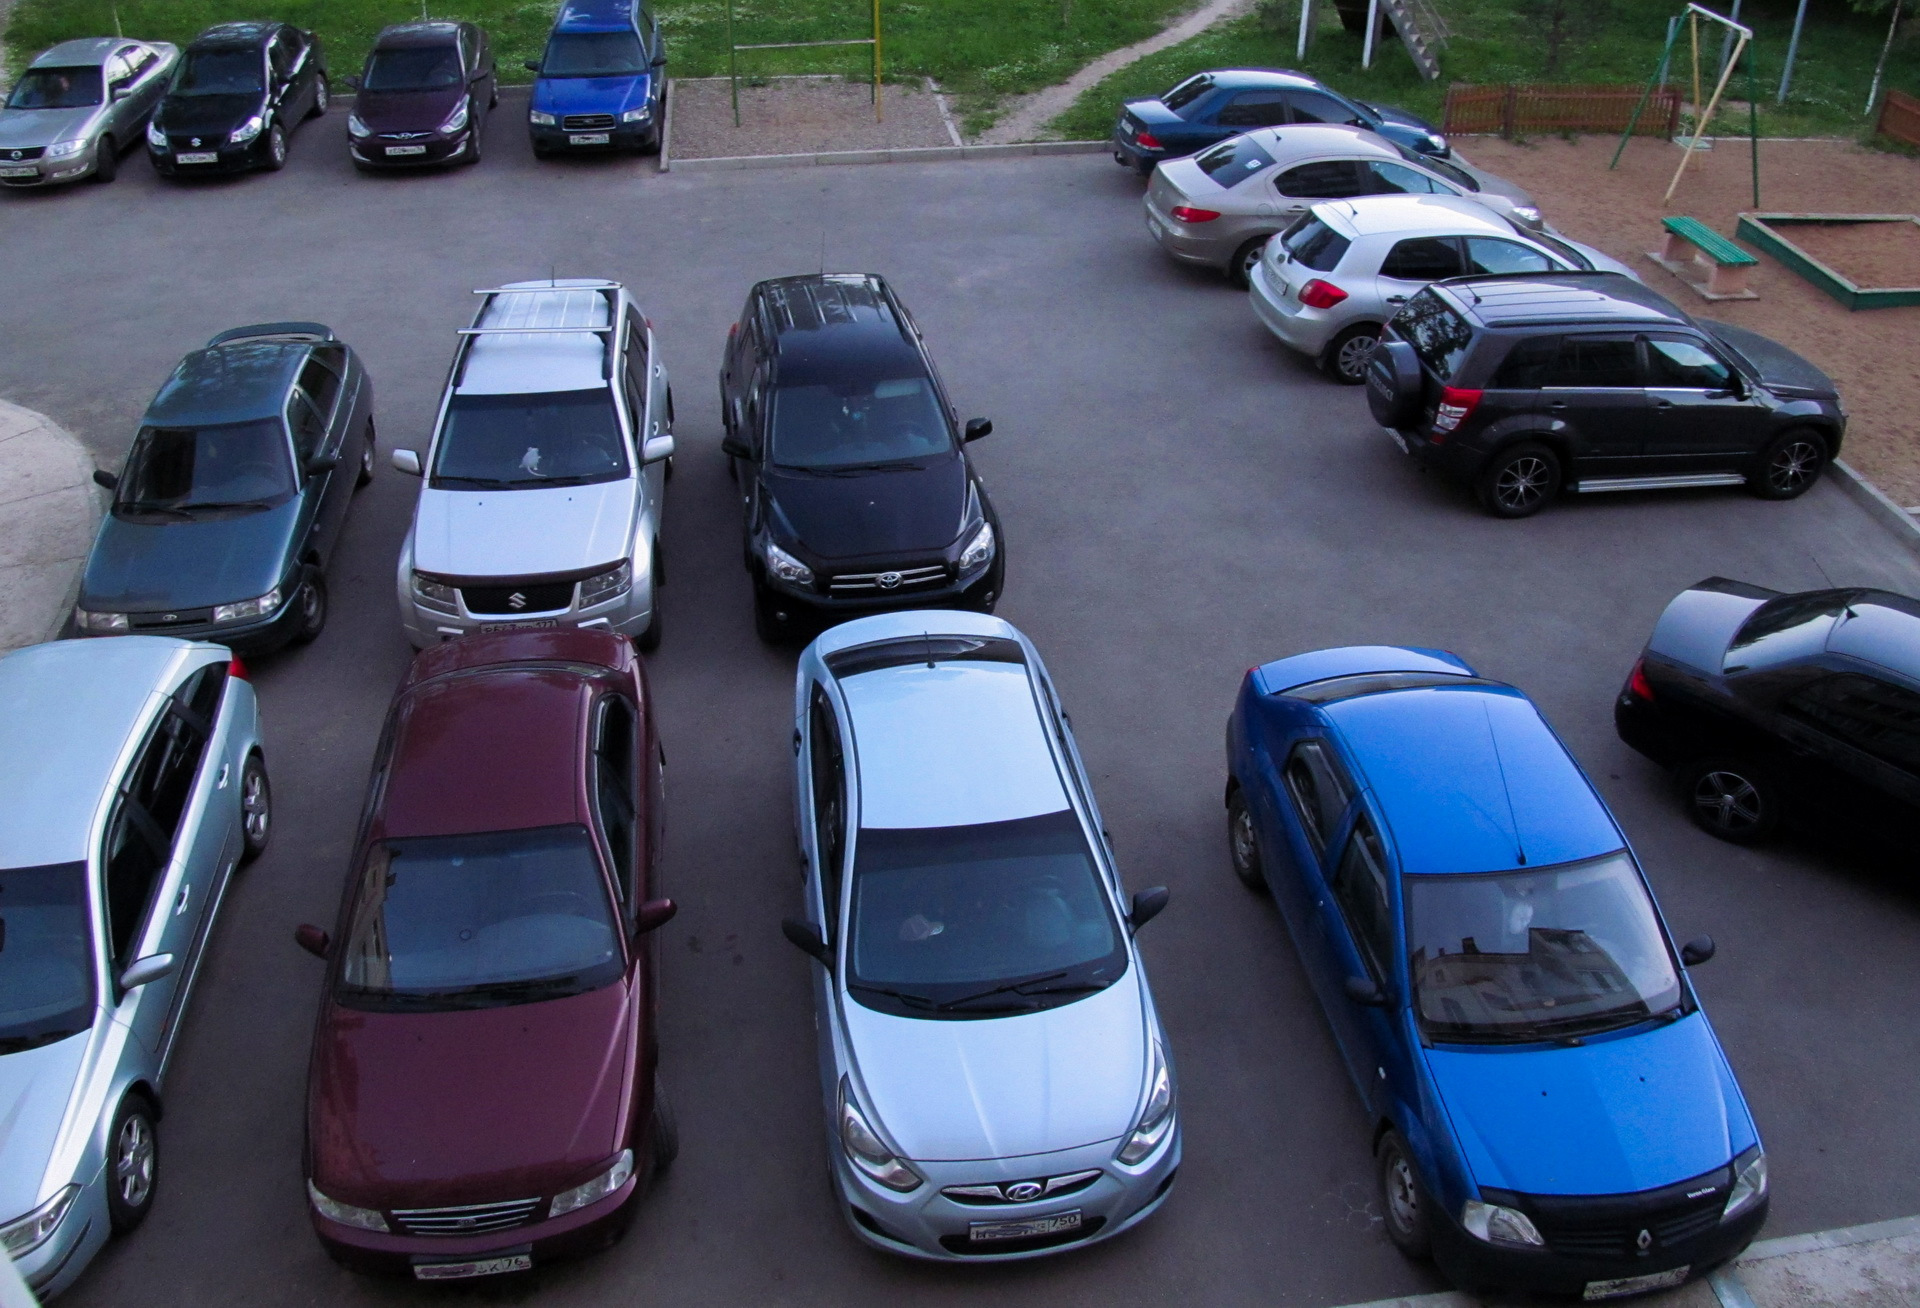Car: (1226, 645, 1770, 1299), (783, 612, 1180, 1261), (296, 627, 676, 1282), (0, 639, 271, 1293), (1366, 276, 1846, 518), (392, 279, 676, 649), (721, 273, 1004, 643), (74, 322, 376, 647), (1615, 577, 1920, 852), (1247, 195, 1634, 384), (1145, 125, 1544, 283), (1112, 69, 1449, 174), (147, 20, 330, 178), (0, 39, 177, 187), (344, 20, 498, 168), (525, 0, 665, 157)
